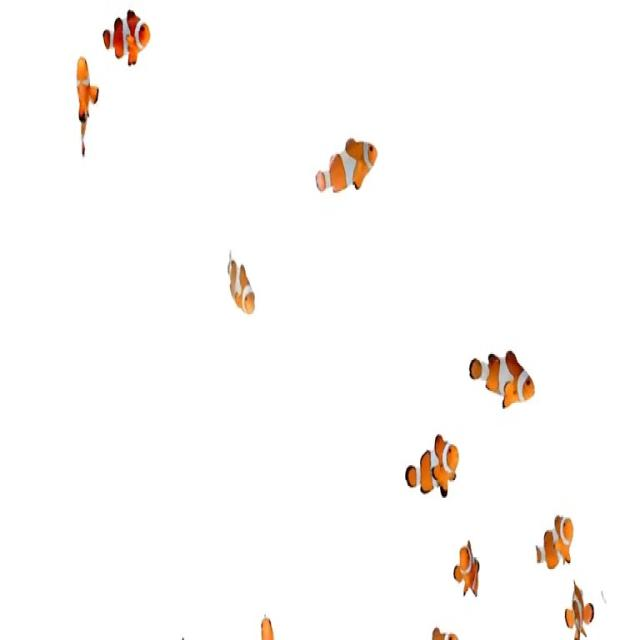fish: (309, 134, 384, 198), (466, 348, 537, 408), (404, 434, 468, 498), (71, 55, 102, 157), (98, 9, 150, 66), (533, 504, 574, 576), (224, 250, 260, 318), (565, 580, 595, 640), (454, 535, 481, 600)
